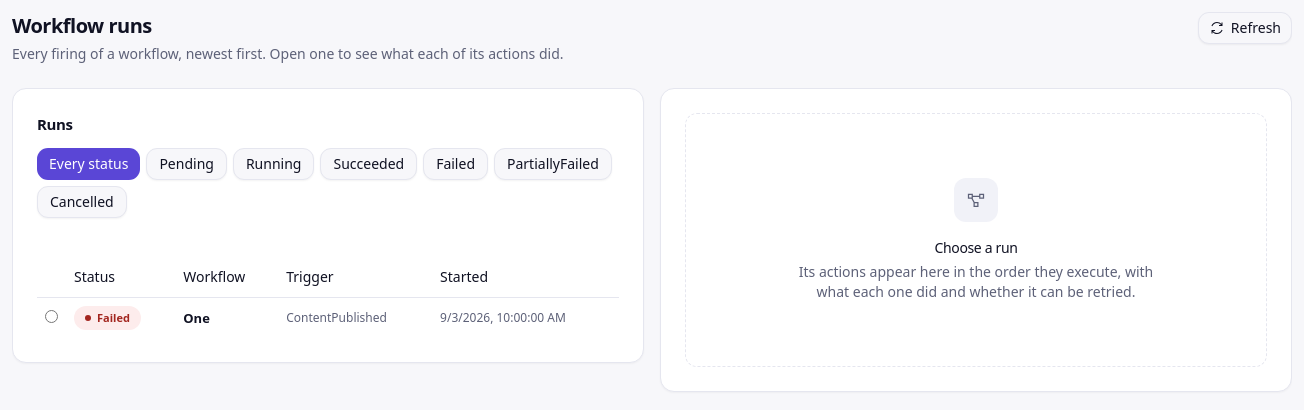
the status chips › keeps the table and says so when a refresh fails after the list has loaded
Expected: the radio button named "One" is shown, [45,310,58,323]
Click the button "Refresh" at (1245,28), box [1198,12,1292,44]
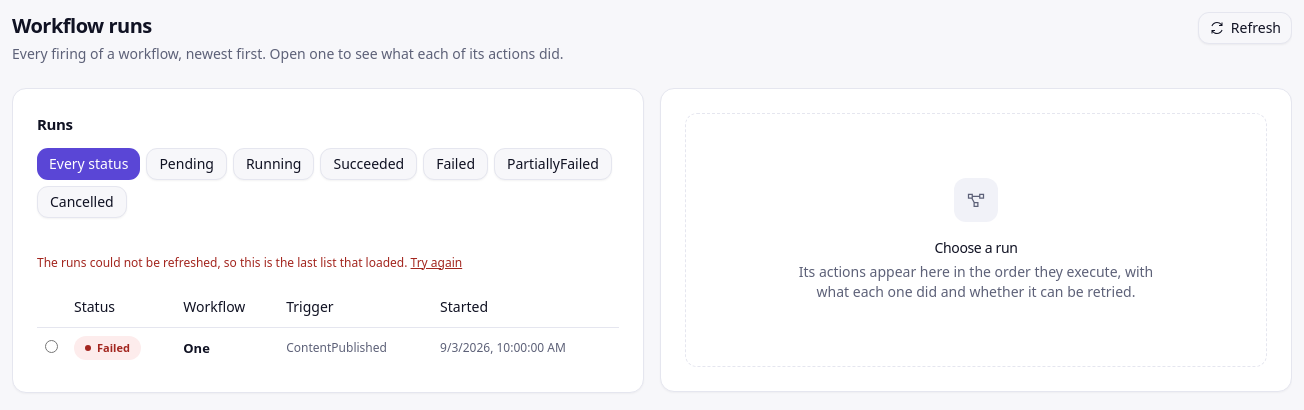
Expected: the radio button named "One" is shown, [45,340,58,353]
Expected: the message shows "could not be refreshed", [37,254,407,270]
